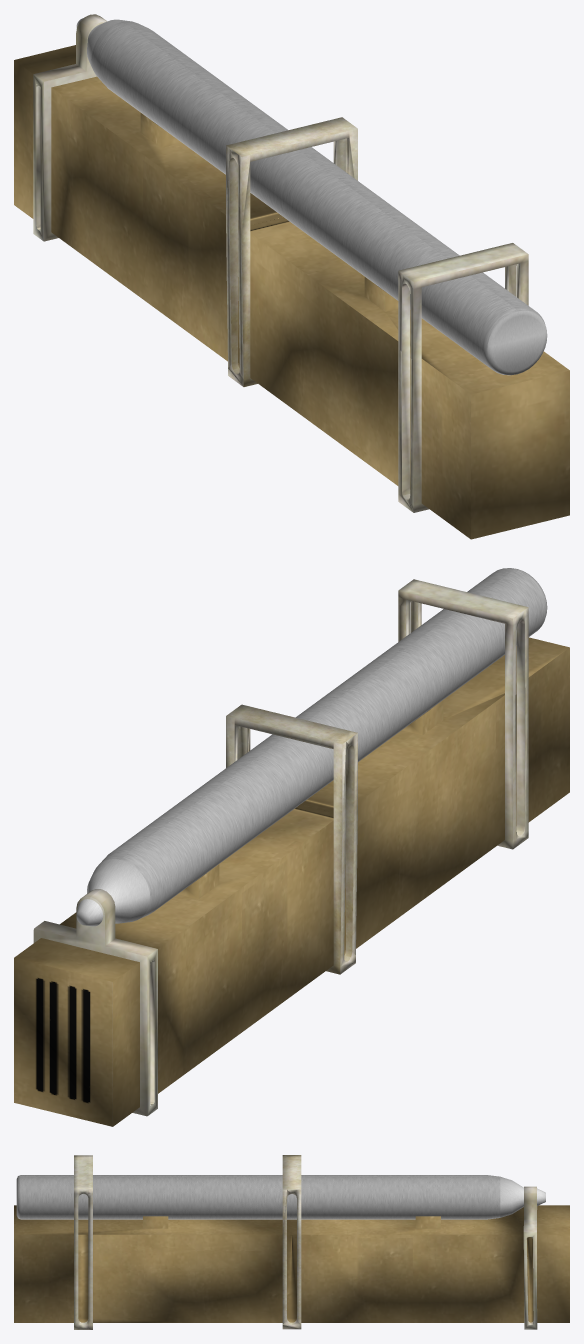
The model's file is odm.fbx.
3 views of the same model, one above another, from view 1: azimuth 30°, elevation 25°; view 2: azimuth 150°, elevation 25°; view 3: azimuth 270°, elevation 25° (orthographic). The views are drawn at different scales.
Visible parts, largest first — view 1: Sheath.001, Gas.001; view 2: Sheath.001, Gas.001; view 3: Sheath.001, Gas.001.
Boxes of the visible parts, bbox=[...] form: Sheath.001: bbox=[14, 14, 569, 539]; Gas.001: bbox=[76, 18, 547, 375]; Sheath.001: bbox=[14, 579, 569, 1126]; Gas.001: bbox=[76, 568, 547, 926]; Sheath.001: bbox=[14, 1155, 569, 1329]; Gas.001: bbox=[16, 1175, 545, 1219].
Bounding box in the file's own units: 14.68 × 27.87 × 100.
